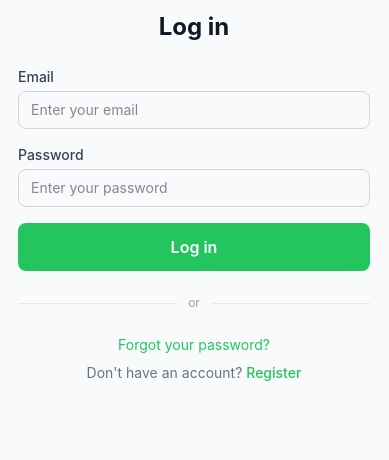
Test: Login › shows error on failed login
Type "test@example.com" into the field with placeholder "Enter your email" at (194, 110), box [18,91,370,129]
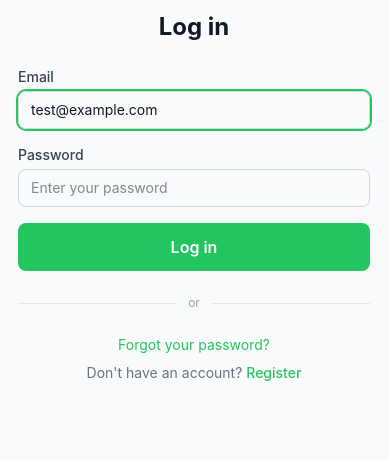
Type "wrong" into the password field with placeholder "Enter your password" at (194, 188), box [18,169,370,207]
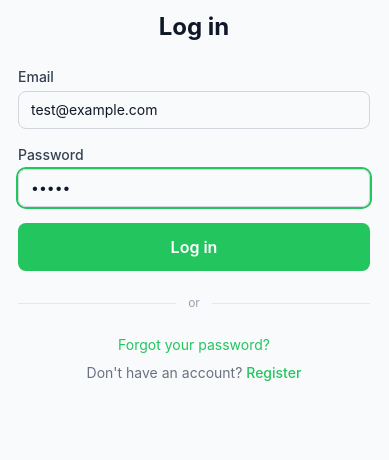
Click the button "Log in" at (194, 247), box [18,223,370,271]
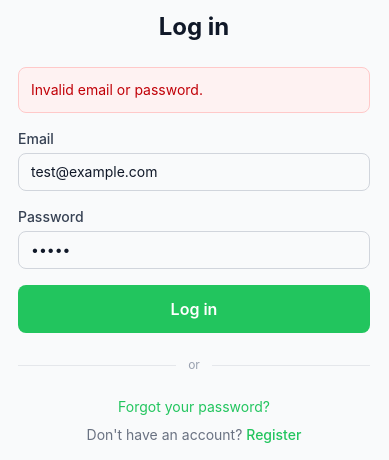
expect the text "Invalid email or password." is shown: met, box [18,67,370,113]
